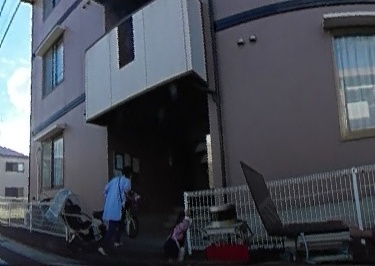person: (100, 159, 134, 252), (164, 209, 189, 265)
